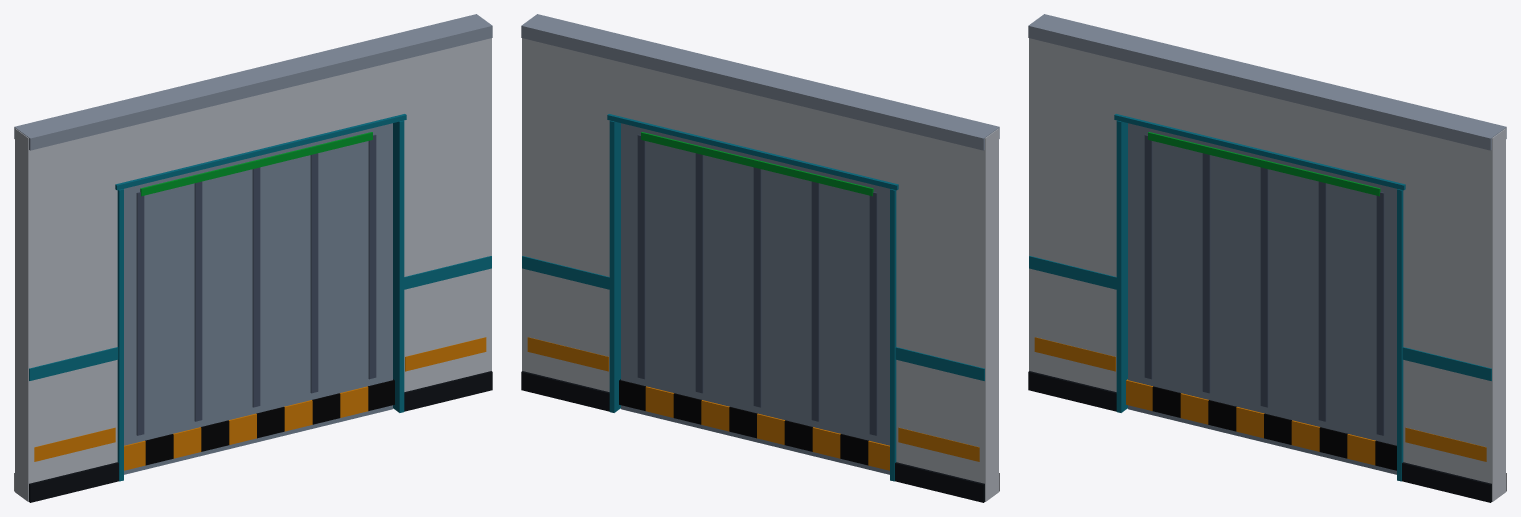
Rendered from SM_Gate_Anim.glb.
3 renders of one model, left to right at view 1: azimuth 30°, elevation 25°; view 2: azimuth 150°, elevation 25°; view 3: azimuth 330°, elevation 25°, orthographic.
Parts seen in each view (by area): view 1: Gate_Wall-col, Gate_Leaf; view 2: Gate_Wall-col, Gate_Leaf; view 3: Gate_Wall-col, Gate_Leaf.
Part boxes in pixels (left/top/right/bottom): Gate_Wall-col: left=14, top=14, right=492, bottom=502; Gate_Leaf: left=124, top=123, right=394, bottom=474; Gate_Wall-col: left=521, top=14, right=999, bottom=502; Gate_Leaf: left=619, top=123, right=889, bottom=474; Gate_Wall-col: left=1028, top=14, right=1506, bottom=502; Gate_Leaf: left=1126, top=123, right=1396, bottom=474.
Bounding box in the file's own units: 4 × 3 × 0.25.
